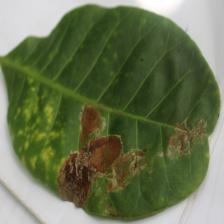leaf miner: (42, 98, 157, 214), (157, 105, 211, 164)
